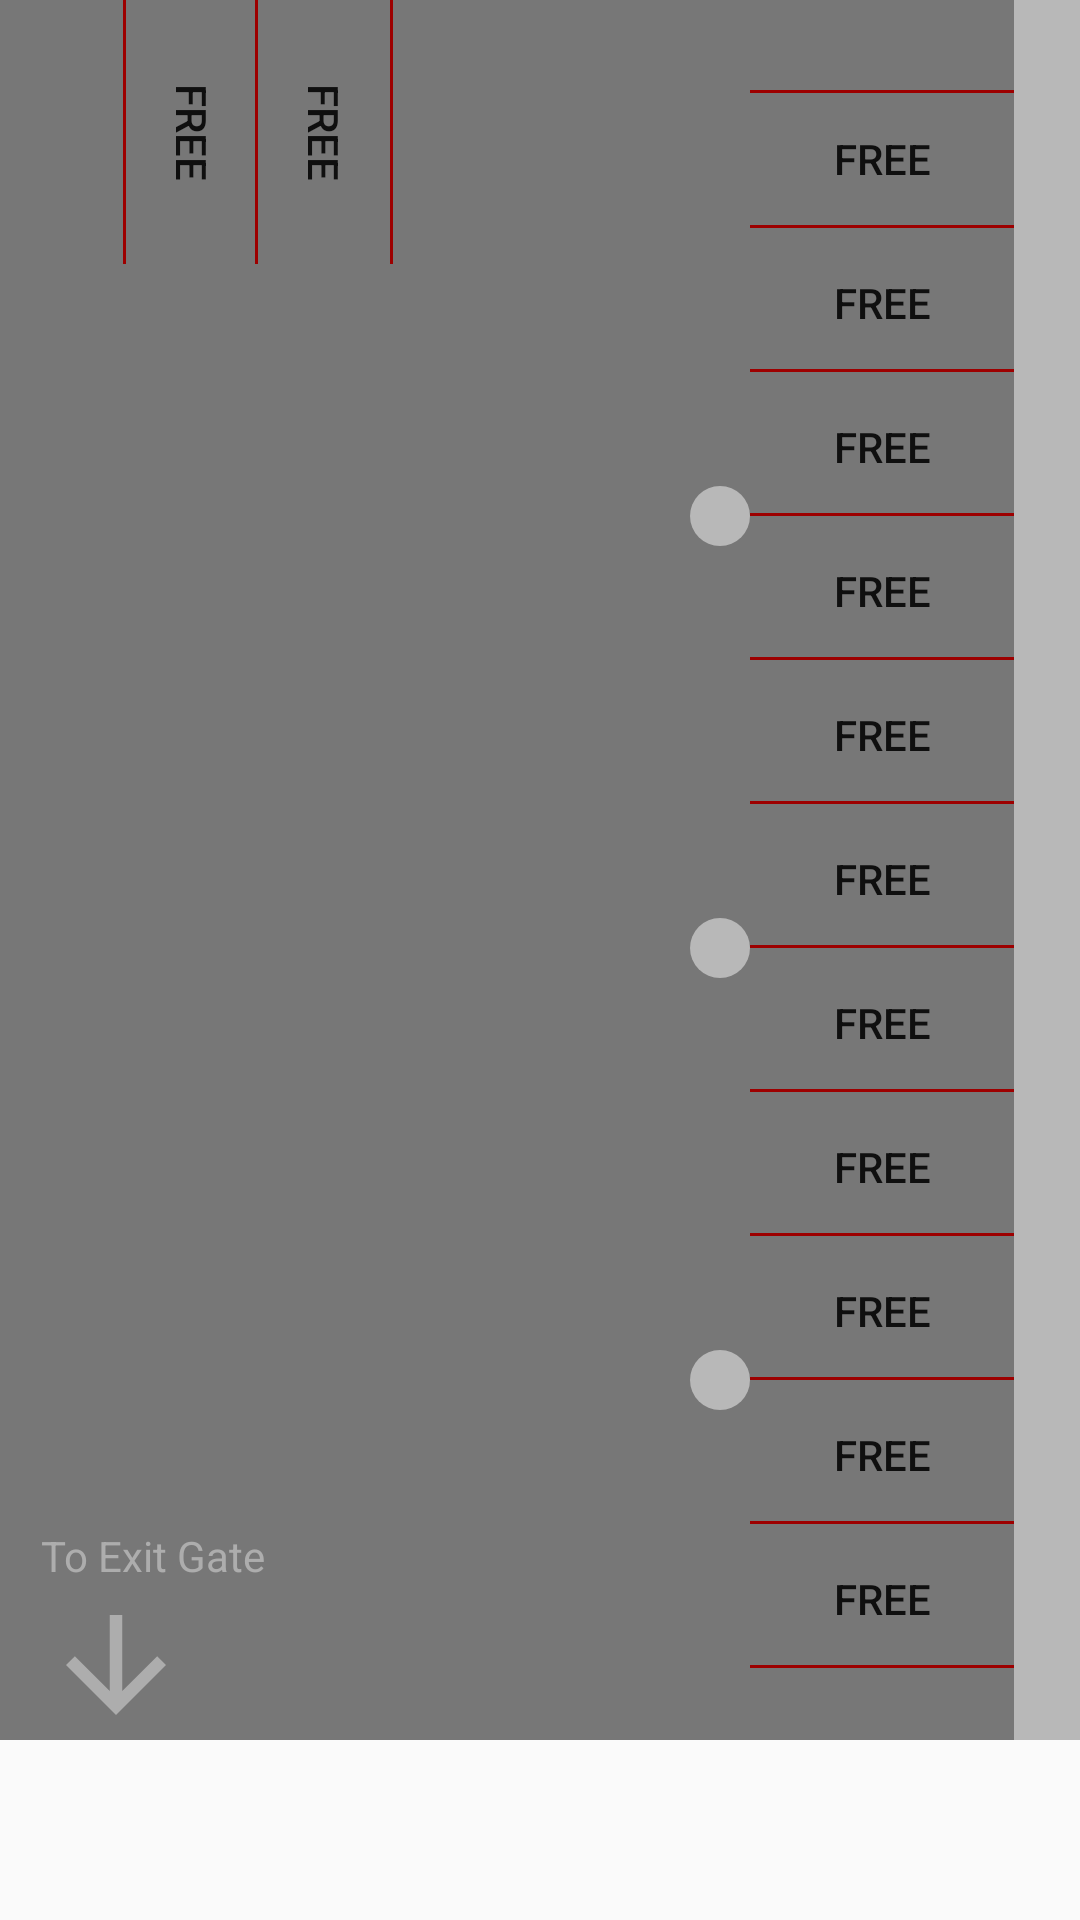

Named icons in this screenshot (1080 × 1920) and their bounding boxes, bbox=(x1, y1, x2, y2):
arrow downward: bbox=(66, 1615, 166, 1715)
